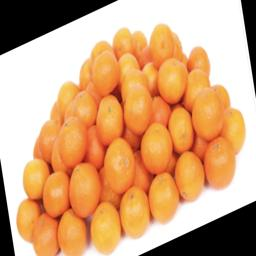Orange Fresh: (14, 13, 242, 234)
